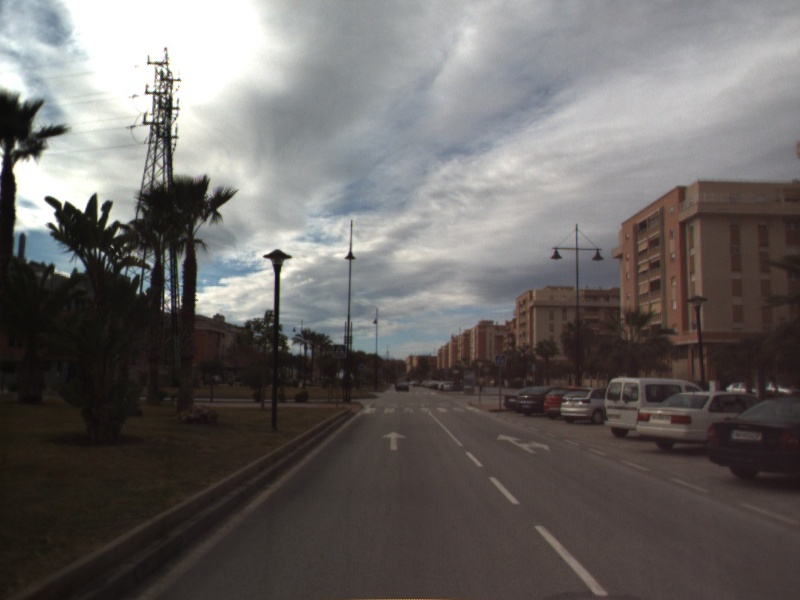STRAIGHT: (380, 429, 408, 452)
STRAIGHT_RIGHT: (495, 432, 551, 455)
